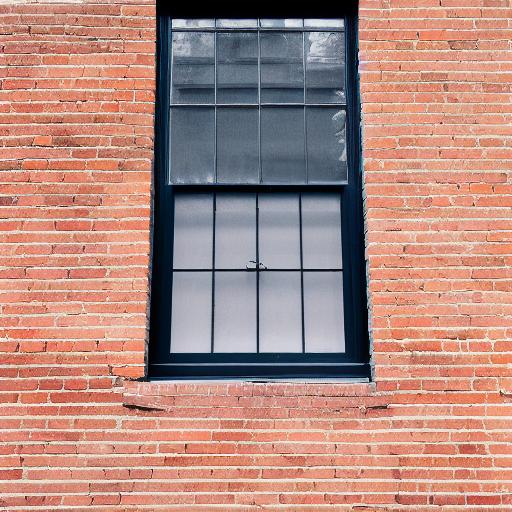Window: (120, 2, 389, 411)
